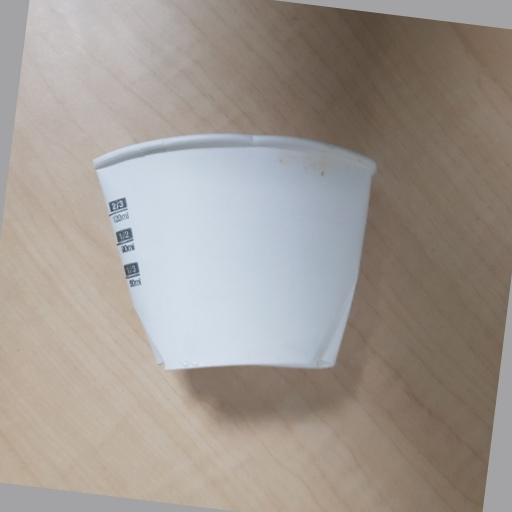Paper_1: (82, 128, 380, 378)
